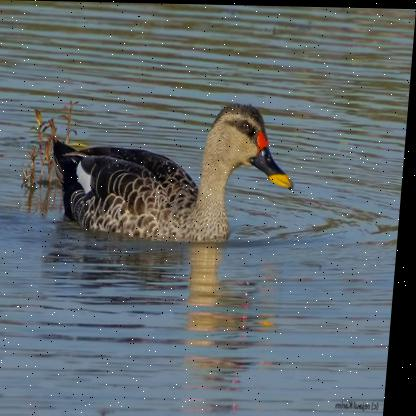Burung: (50, 99, 302, 240)
